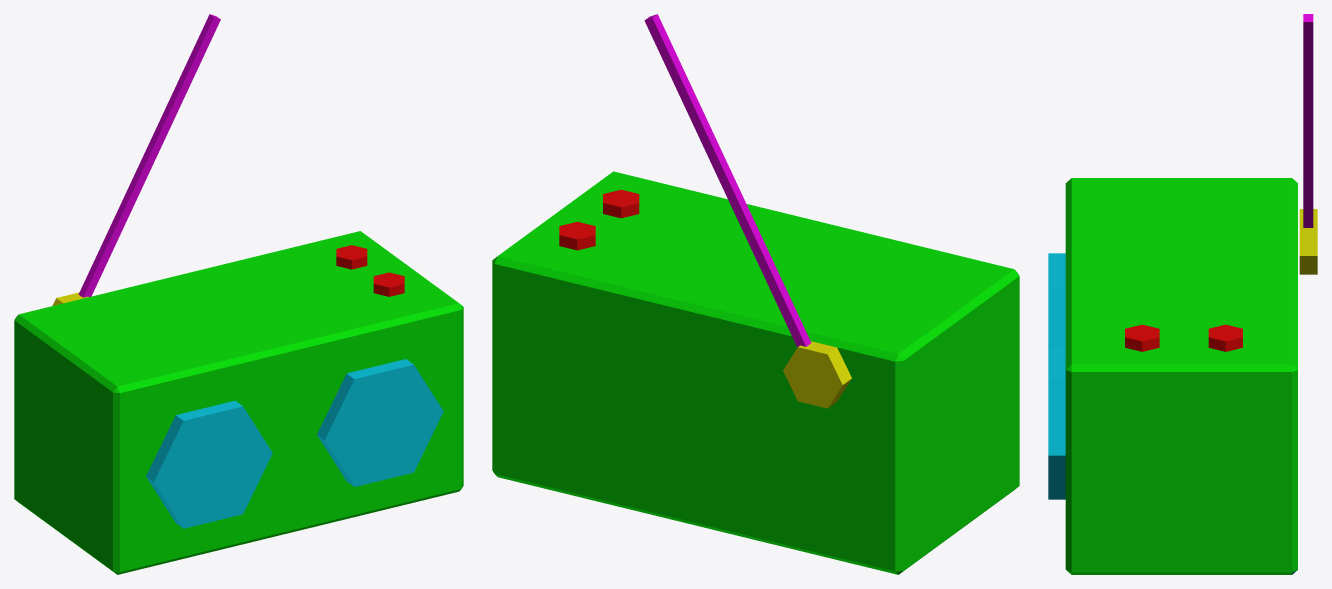
File: SM_Radio.fbx
The picture shows the model from 3 angles, left to right: view 1: azimuth 30°, elevation 25°; view 2: azimuth 150°, elevation 25°; view 3: azimuth 270°, elevation 25°; orthographic projection. The views are drawn at different scales.
Visible parts, largest first — view 1: SM_Radio; view 2: SM_Radio; view 3: SM_Radio.
Boxes of the visible parts, box(x1,y1,x2,y2) form: SM_Radio: box(14, 14, 463, 574); SM_Radio: box(492, 14, 1019, 574); SM_Radio: box(1048, 14, 1317, 574).
Bounding box in the file's own units: 180 × 212 × 107.
